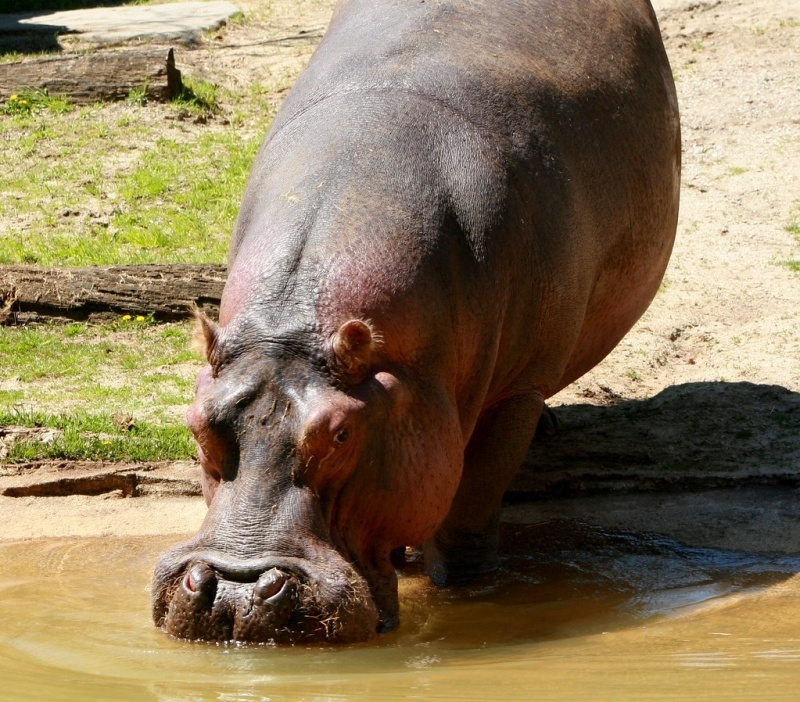hipopotamo: (143, 0, 694, 666)
